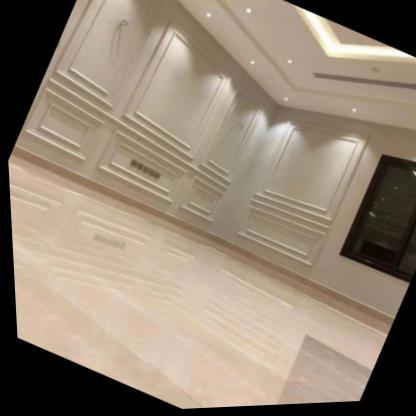Futec frame: (0, 0, 186, 203), (79, 25, 247, 231), (221, 94, 383, 284), (159, 76, 277, 244)
Gypsum Board: (71, 0, 416, 195)
